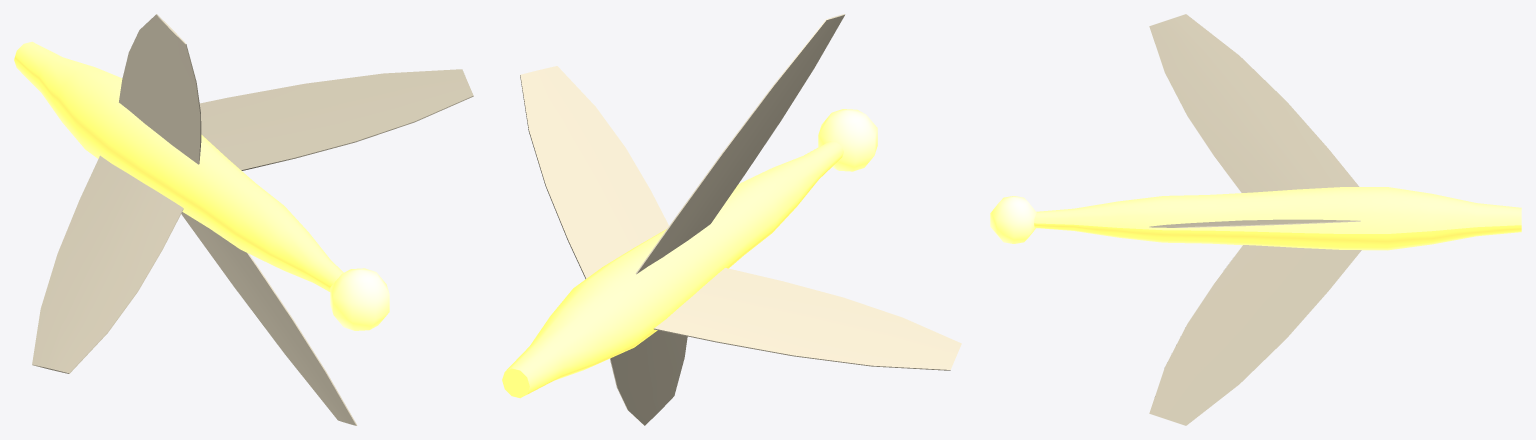
Rendered from aeromite.glb.
3 renders of one model, left to right at view 1: azimuth 30°, elevation 25°; view 2: azimuth 150°, elevation 25°; view 3: azimuth 270°, elevation 25°, orthographic. The views are drawn at different scales.
Visible parts, largest first — view 1: aeromite_wings, aeromite; view 2: aeromite_wings, aeromite; view 3: aeromite_wings, aeromite.
Boxes of the visible parts, x1=… form: aeromite_wings: x1=32, y1=14, x2=473, y2=425; aeromite: x1=14, y1=41, x2=389, y2=330; aeromite_wings: x1=520, y1=14, x2=961, y2=425; aeromite: x1=502, y1=109, x2=877, y2=398; aeromite_wings: x1=1149, y1=14, x2=1361, y2=425; aeromite: x1=990, y1=187, x2=1521, y2=250.
Size of the model in its own units: 0.0247 by 0.0247 by 0.0345.
